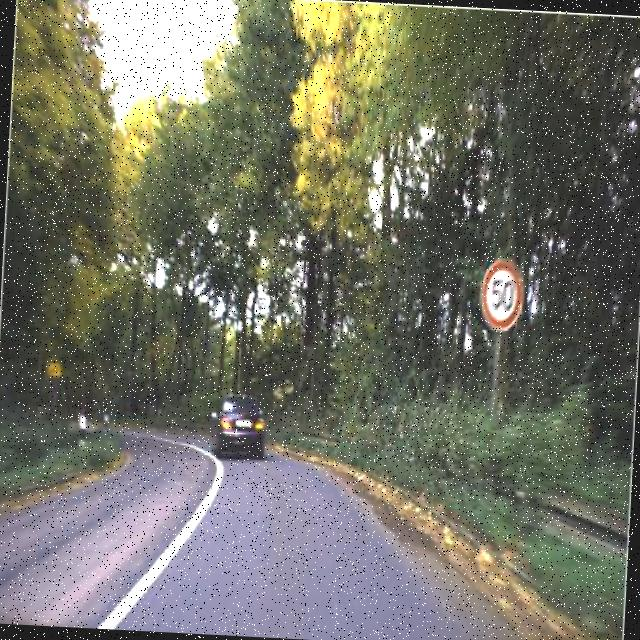Ograniczenie predkosci do 50: (474, 254, 526, 336)
